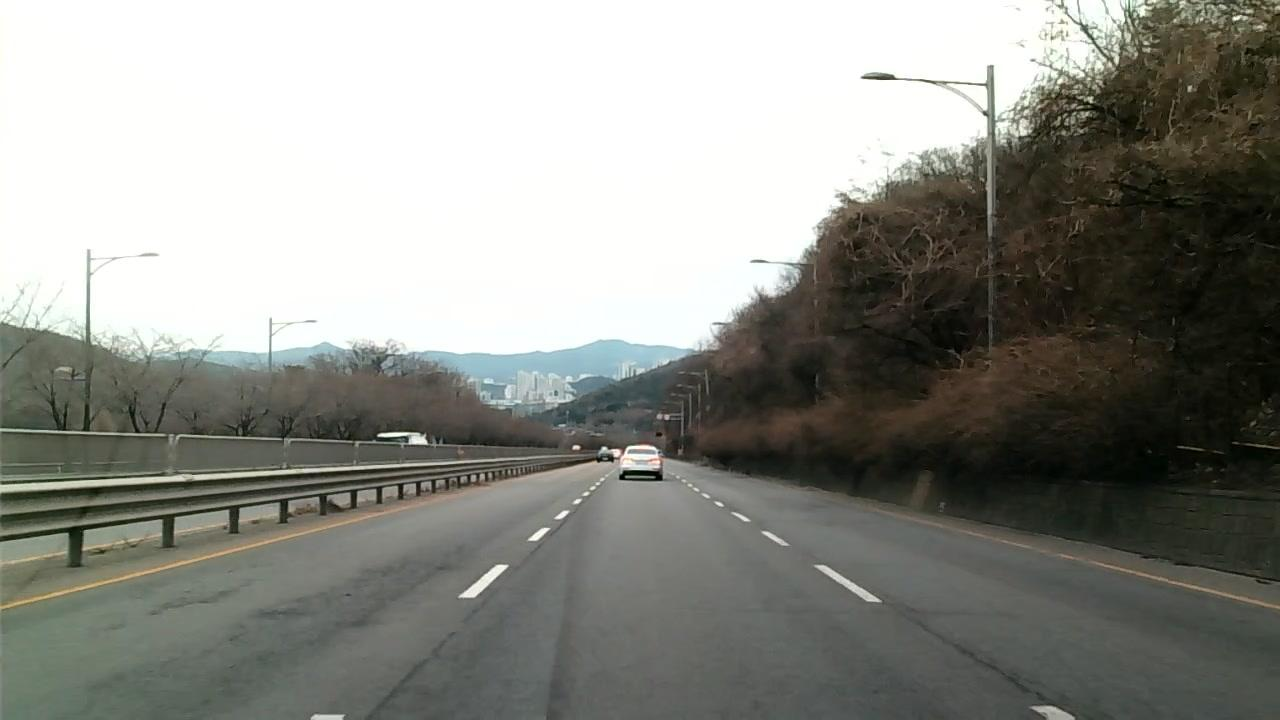erosion: (263, 553, 449, 615), (149, 572, 250, 623)
vcrack: (902, 615, 1075, 716), (340, 628, 459, 720)
